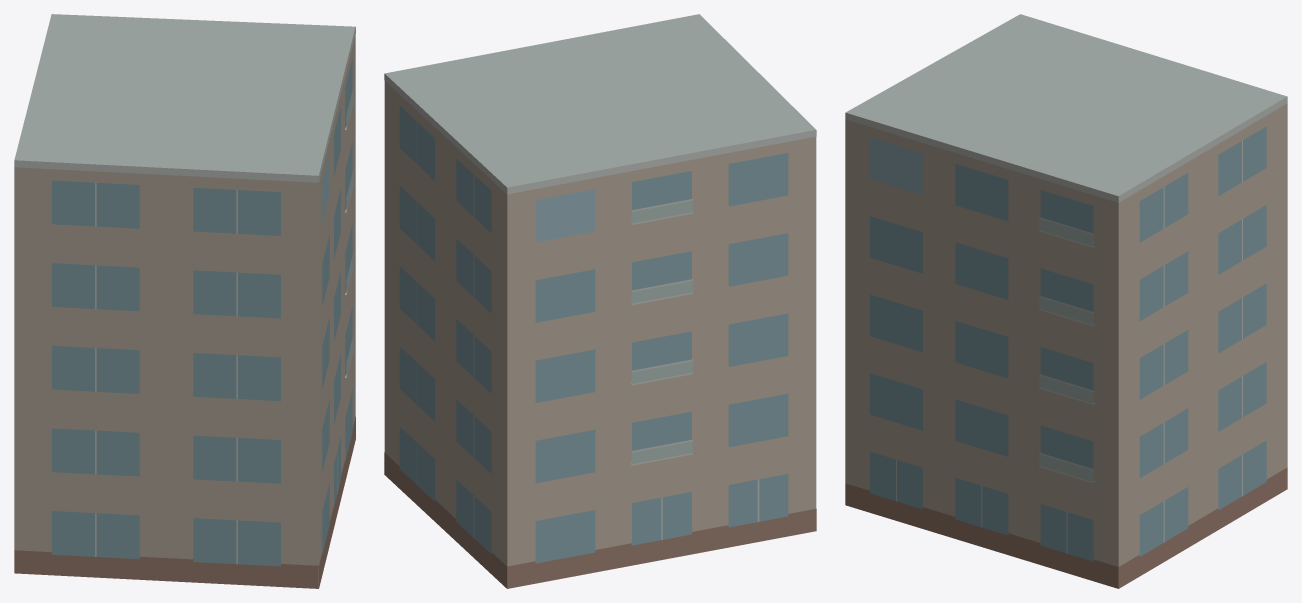
File: survey-upis-32731878.glb
3 renders of one model, left to right at view 1: azimuth 30°, elevation 25°; view 2: azimuth 150°, elevation 25°; view 3: azimuth 270°, elevation 25°, orthographic. The views are drawn at different scales.
Visible parts, largest first — view 1: survey-upis-32731878.tmp; view 2: survey-upis-32731878.tmp; view 3: survey-upis-32731878.tmp.
Part boxes in pixels (box(x1,y1,x2,y2)): survey-upis-32731878.tmp: box(14, 14, 355, 588); survey-upis-32731878.tmp: box(384, 14, 816, 588); survey-upis-32731878.tmp: box(845, 14, 1287, 588).
Size of the model in its own units: 14.35 by 14.4 by 14.71.
